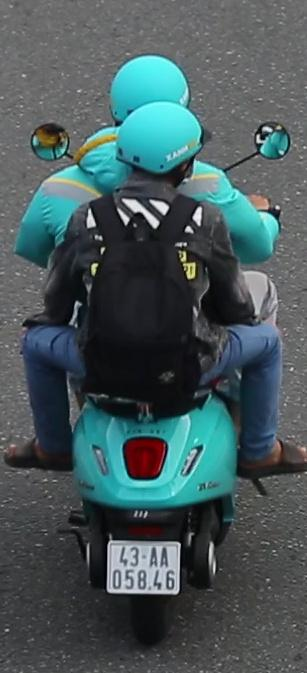LP: (104, 537, 183, 602)
helmet: (110, 100, 210, 212)
